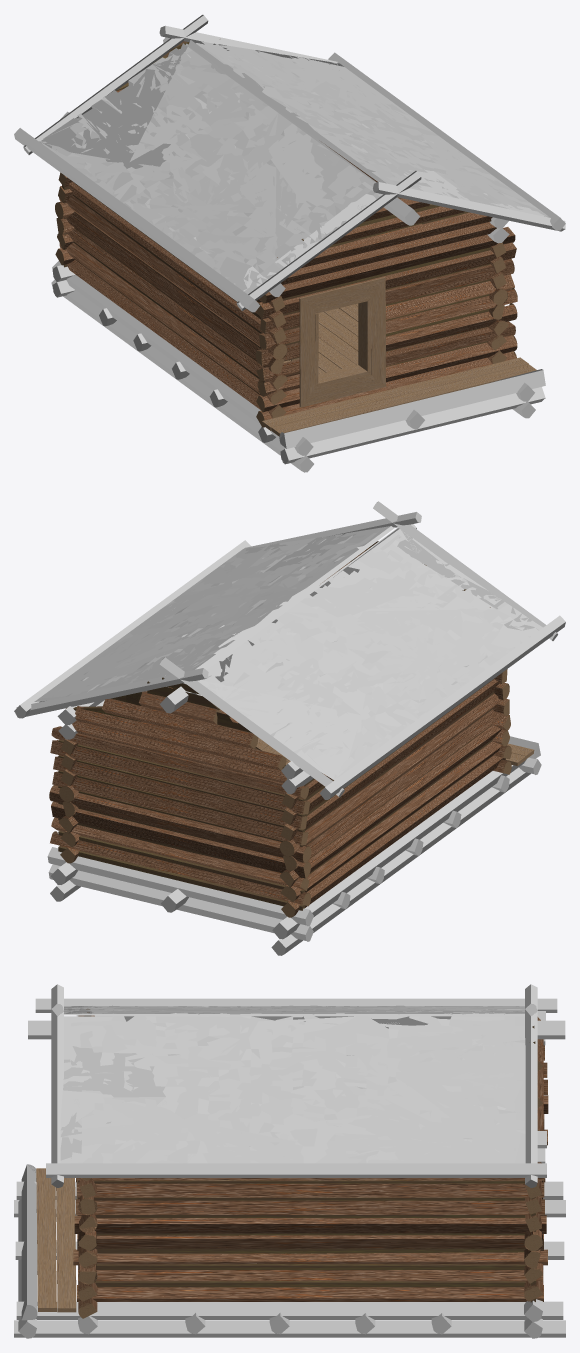
Rendered from banya_LOD3.fbx.
3 views of the same model, one above another, from view 1: azimuth 30°, elevation 25°; view 2: azimuth 150°, elevation 25°; view 3: azimuth 270°, elevation 25° (orthographic). The views are drawn at different scales.
Visible parts, largest first — view 1: Куб.003, Куб.002, Цилиндр.003, Цилиндр.007, Цилиндр, Цилиндр.055, Цилиндр.027, Цилиндр.071, Цилиндр.069, Цилиндр.072, Цилиндр.021, Цилиндр.070 (+30 smaller); view 2: Куб.003, Куб.002, Цилиндр.007, Цилиндр.045, Цилиндр.044, Цилиндр.006, Цилиндр.055, Цилиндр.001, Цилиндр.048, Цилиндр.035, Цилиндр.047, Цилиндр.046 (+24 smaller); view 3: Куб.002, Цилиндр.005, Цилиндр.002, Цилиндр.066, Цилиндр.053, Цилиндр.067, Цилиндр.054, Цилиндр.020, Цилиндр.052, Цилиндр.051, Цилиндр.050, Куб.003 (+19 smaller).
Boxes of the visible parts, <box> form: Куб.003: <box>39,43,383,294</box>; Куб.002: <box>188,40,548,216</box>; Цилиндр.003: <box>279,369,545,448</box>; Цилиндр.007: <box>14,128,260,312</box>; Цилиндр: <box>280,387,545,464</box>; Цилиндр.055: <box>52,261,313,455</box>; Цилиндр.027: <box>260,227,515,303</box>; Цилиндр.071: <box>66,212,284,373</box>; Цилиндр.069: <box>59,242,286,404</box>; Цилиндр.072: <box>59,196,287,359</box>; Цилиндр.021: <box>67,260,285,418</box>; Цилиндр.070: <box>67,228,287,390</box>; Куб.003: <box>196,528,542,780</box>; Куб.002: <box>34,526,394,701</box>; Цилиндр.007: <box>319,615,565,799</box>; Цилиндр.045: <box>49,785,311,862</box>; Цилиндр.044: <box>51,801,310,878</box>; Цилиндр.006: <box>47,847,313,926</box>; Цилиндр.055: <box>272,759,526,939</box>; Цилиндр.001: <box>48,864,313,941</box>; Цилиндр.048: <box>50,740,310,814</box>; Цилиндр.035: <box>75,706,286,770</box>; Цилиндр.047: <box>53,756,307,829</box>; Цилиндр.046: <box>52,771,308,844</box>; Куб.002: <box>60,1016,525,1163</box>; Цилиндр.005: <box>16,1301,563,1319</box>; Цилиндр.002: <box>14,1320,565,1337</box>; Цилиндр.066: <box>46,1163,546,1177</box>; Цилиндр.053: <box>74,1215,546,1233</box>; Цилиндр.067: <box>76,1182,544,1197</box>; Цилиндр.054: <box>76,1199,544,1214</box>; Цилиндр.020: <box>77,1285,543,1301</box>; Цилиндр.052: <box>77,1234,543,1250</box>; Цилиндр.051: <box>73,1249,547,1265</box>; Цилиндр.050: <box>78,1267,543,1281</box>; Куб.003: <box>64,1005,524,1019</box>.
Bounding box in the file's own units: 4417 × 3294 × 5811.
